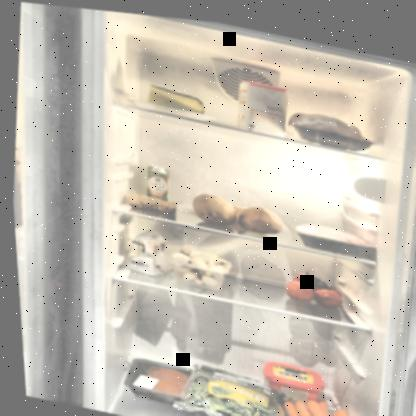beef: (115, 351, 200, 406)
butter: (253, 352, 323, 401)
carrot: (273, 383, 365, 415)
cheese: (140, 77, 208, 115)
chicken: (282, 100, 375, 148)
ground_beef: (277, 211, 375, 254)
heavy_cream: (140, 159, 170, 206)
mushrooms: (168, 238, 231, 287)
shrimp: (123, 188, 174, 212)
spinach: (166, 358, 289, 415)
sweet_potato: (187, 184, 282, 234)
tomato: (277, 259, 343, 305)
